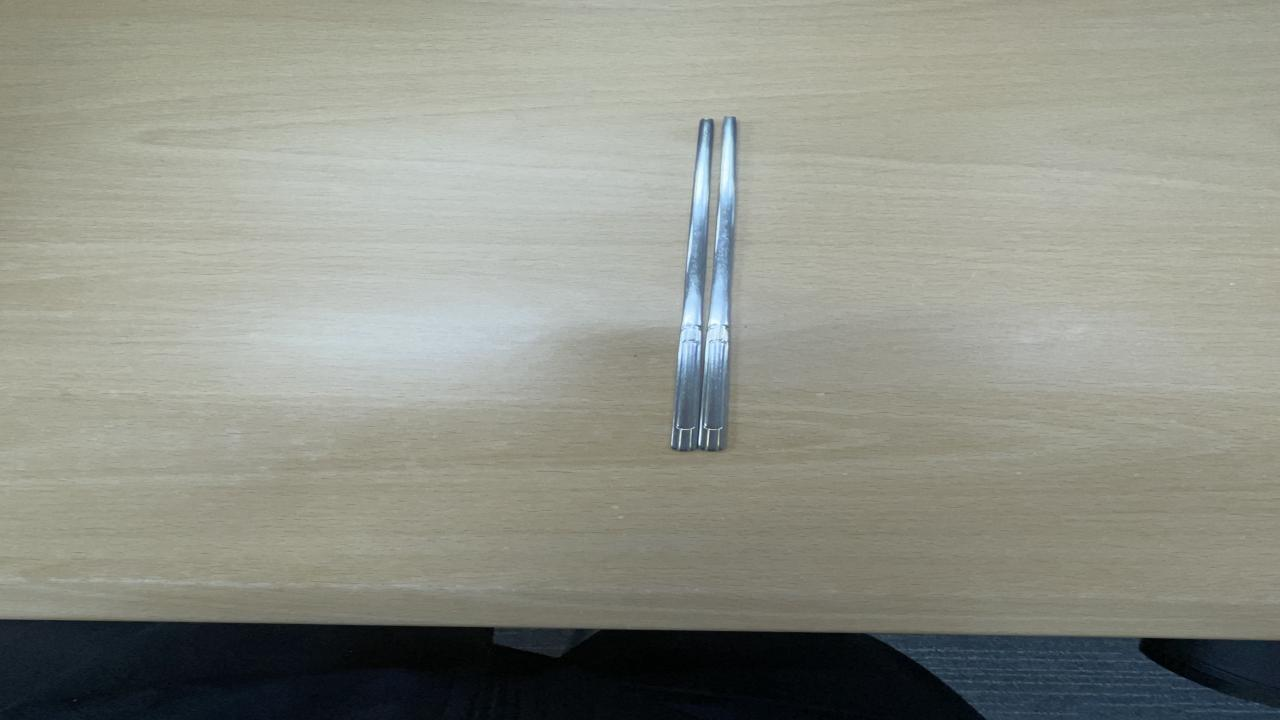chopstick: (669, 112, 740, 458)
